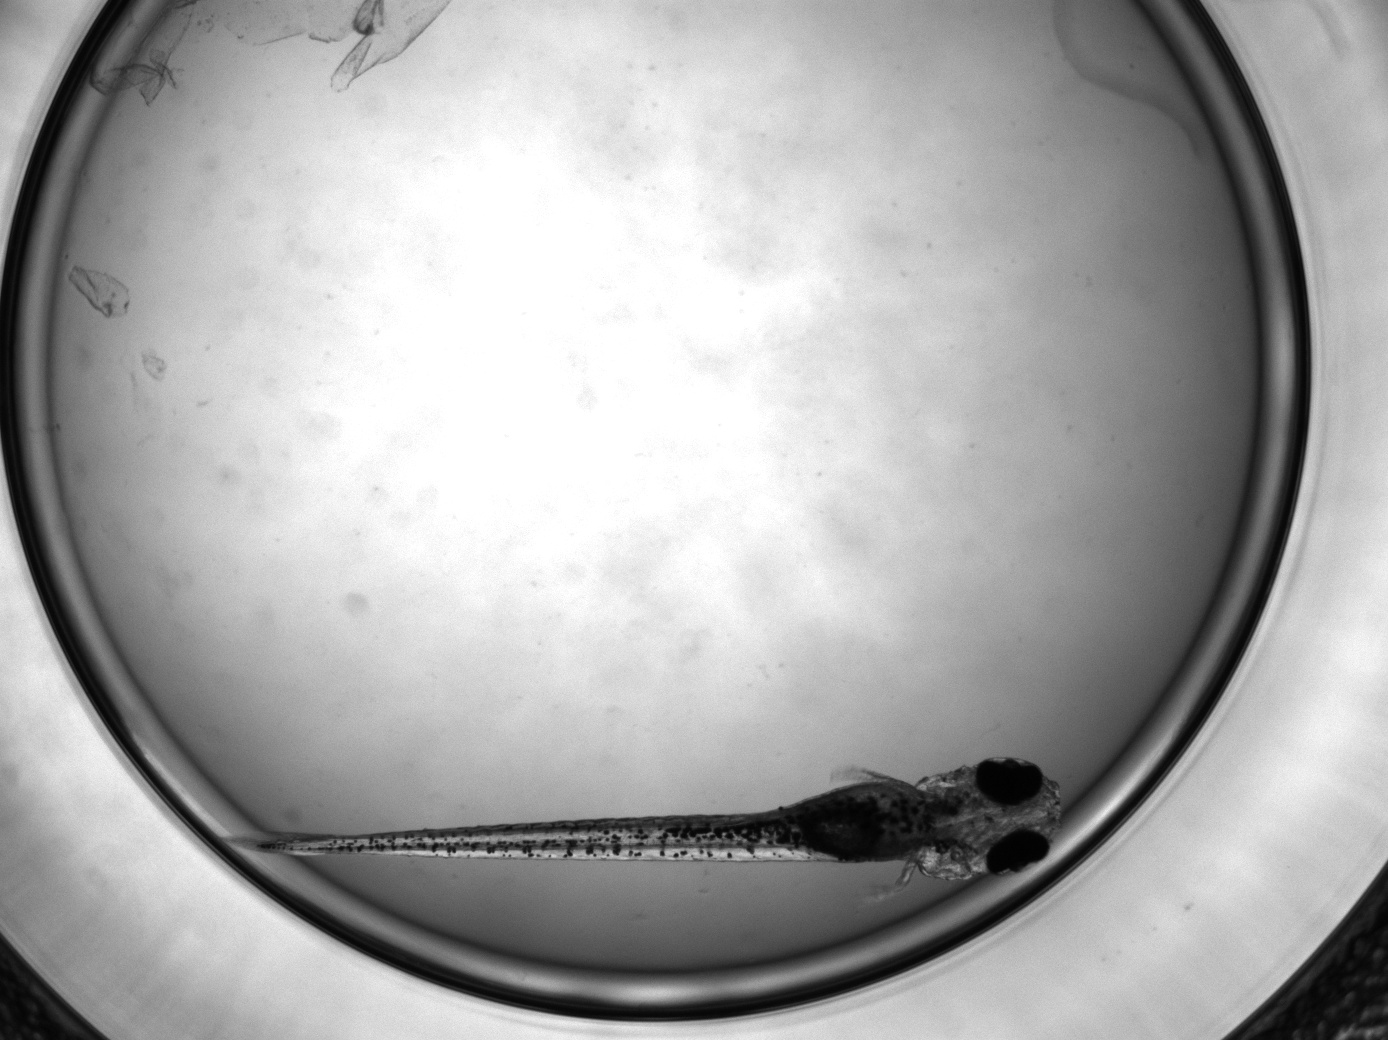debris: (63, 263, 131, 319)
embryo: (257, 755, 1064, 881)
eye: (975, 757, 1044, 806), (983, 829, 1049, 877)
yolksac: (792, 780, 930, 864)
